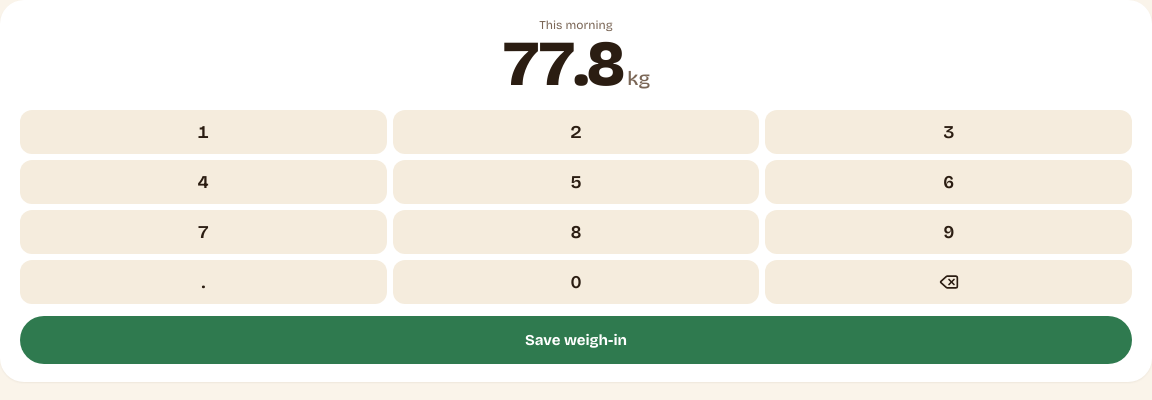
Test: WeightEntry › disables Save until the value is complete
The image size is (1152, 400).
Click the button named "Backspace": {"x": 949, "y": 282} [765,260,1132,304]
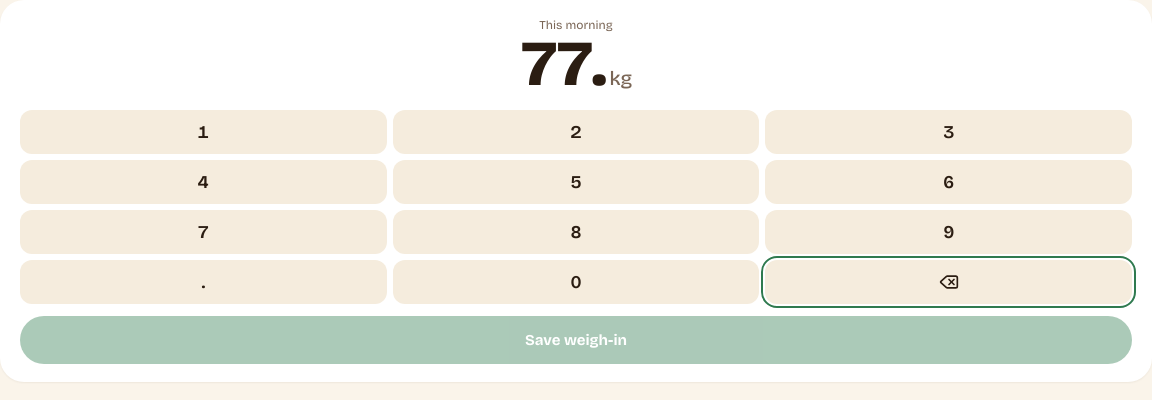
Expected: the button "Save weigh-in" is disabled, [20,316,1132,364]
